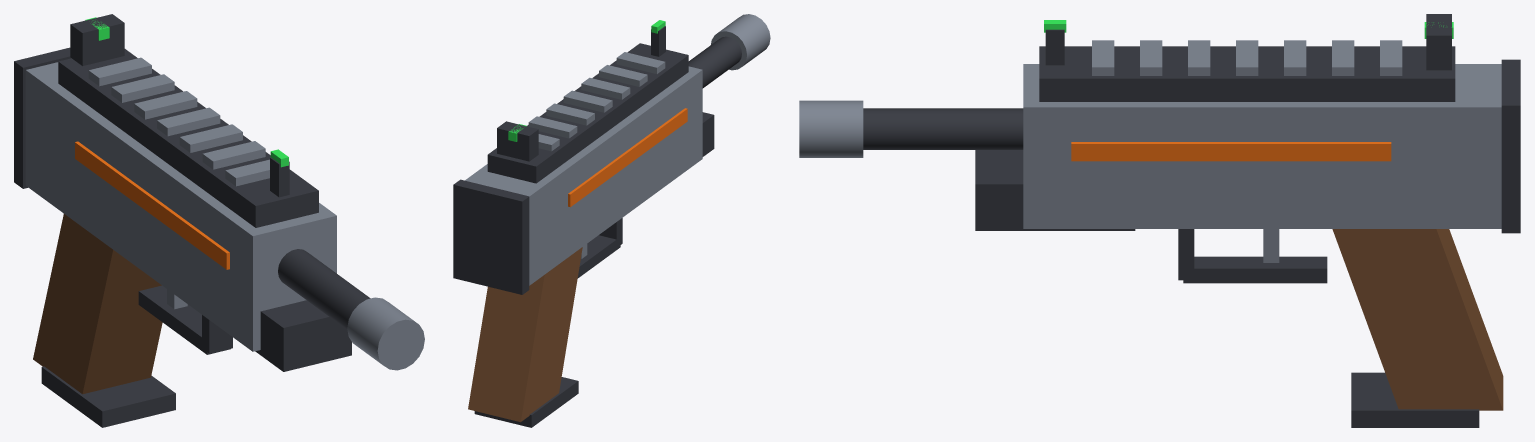
File: fpsGun.obj
3 views of the same model, side by side, from view 1: azimuth 30°, elevation 25°; view 2: azimuth 150°, elevation 25°; view 3: azimuth 270°, elevation 25° (orthographic). The views are drawn at different scales.
Size of the model in its own units: 0.069 by 0.267 by 0.451.
